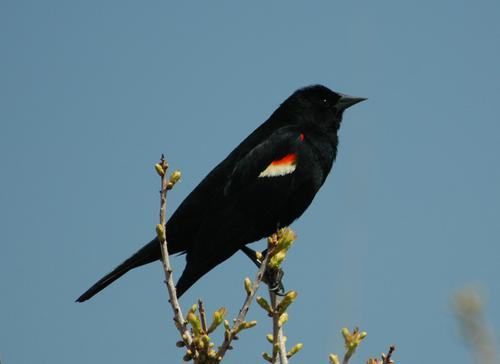010.Red_winged_Blackbird: (75, 85, 371, 318)
